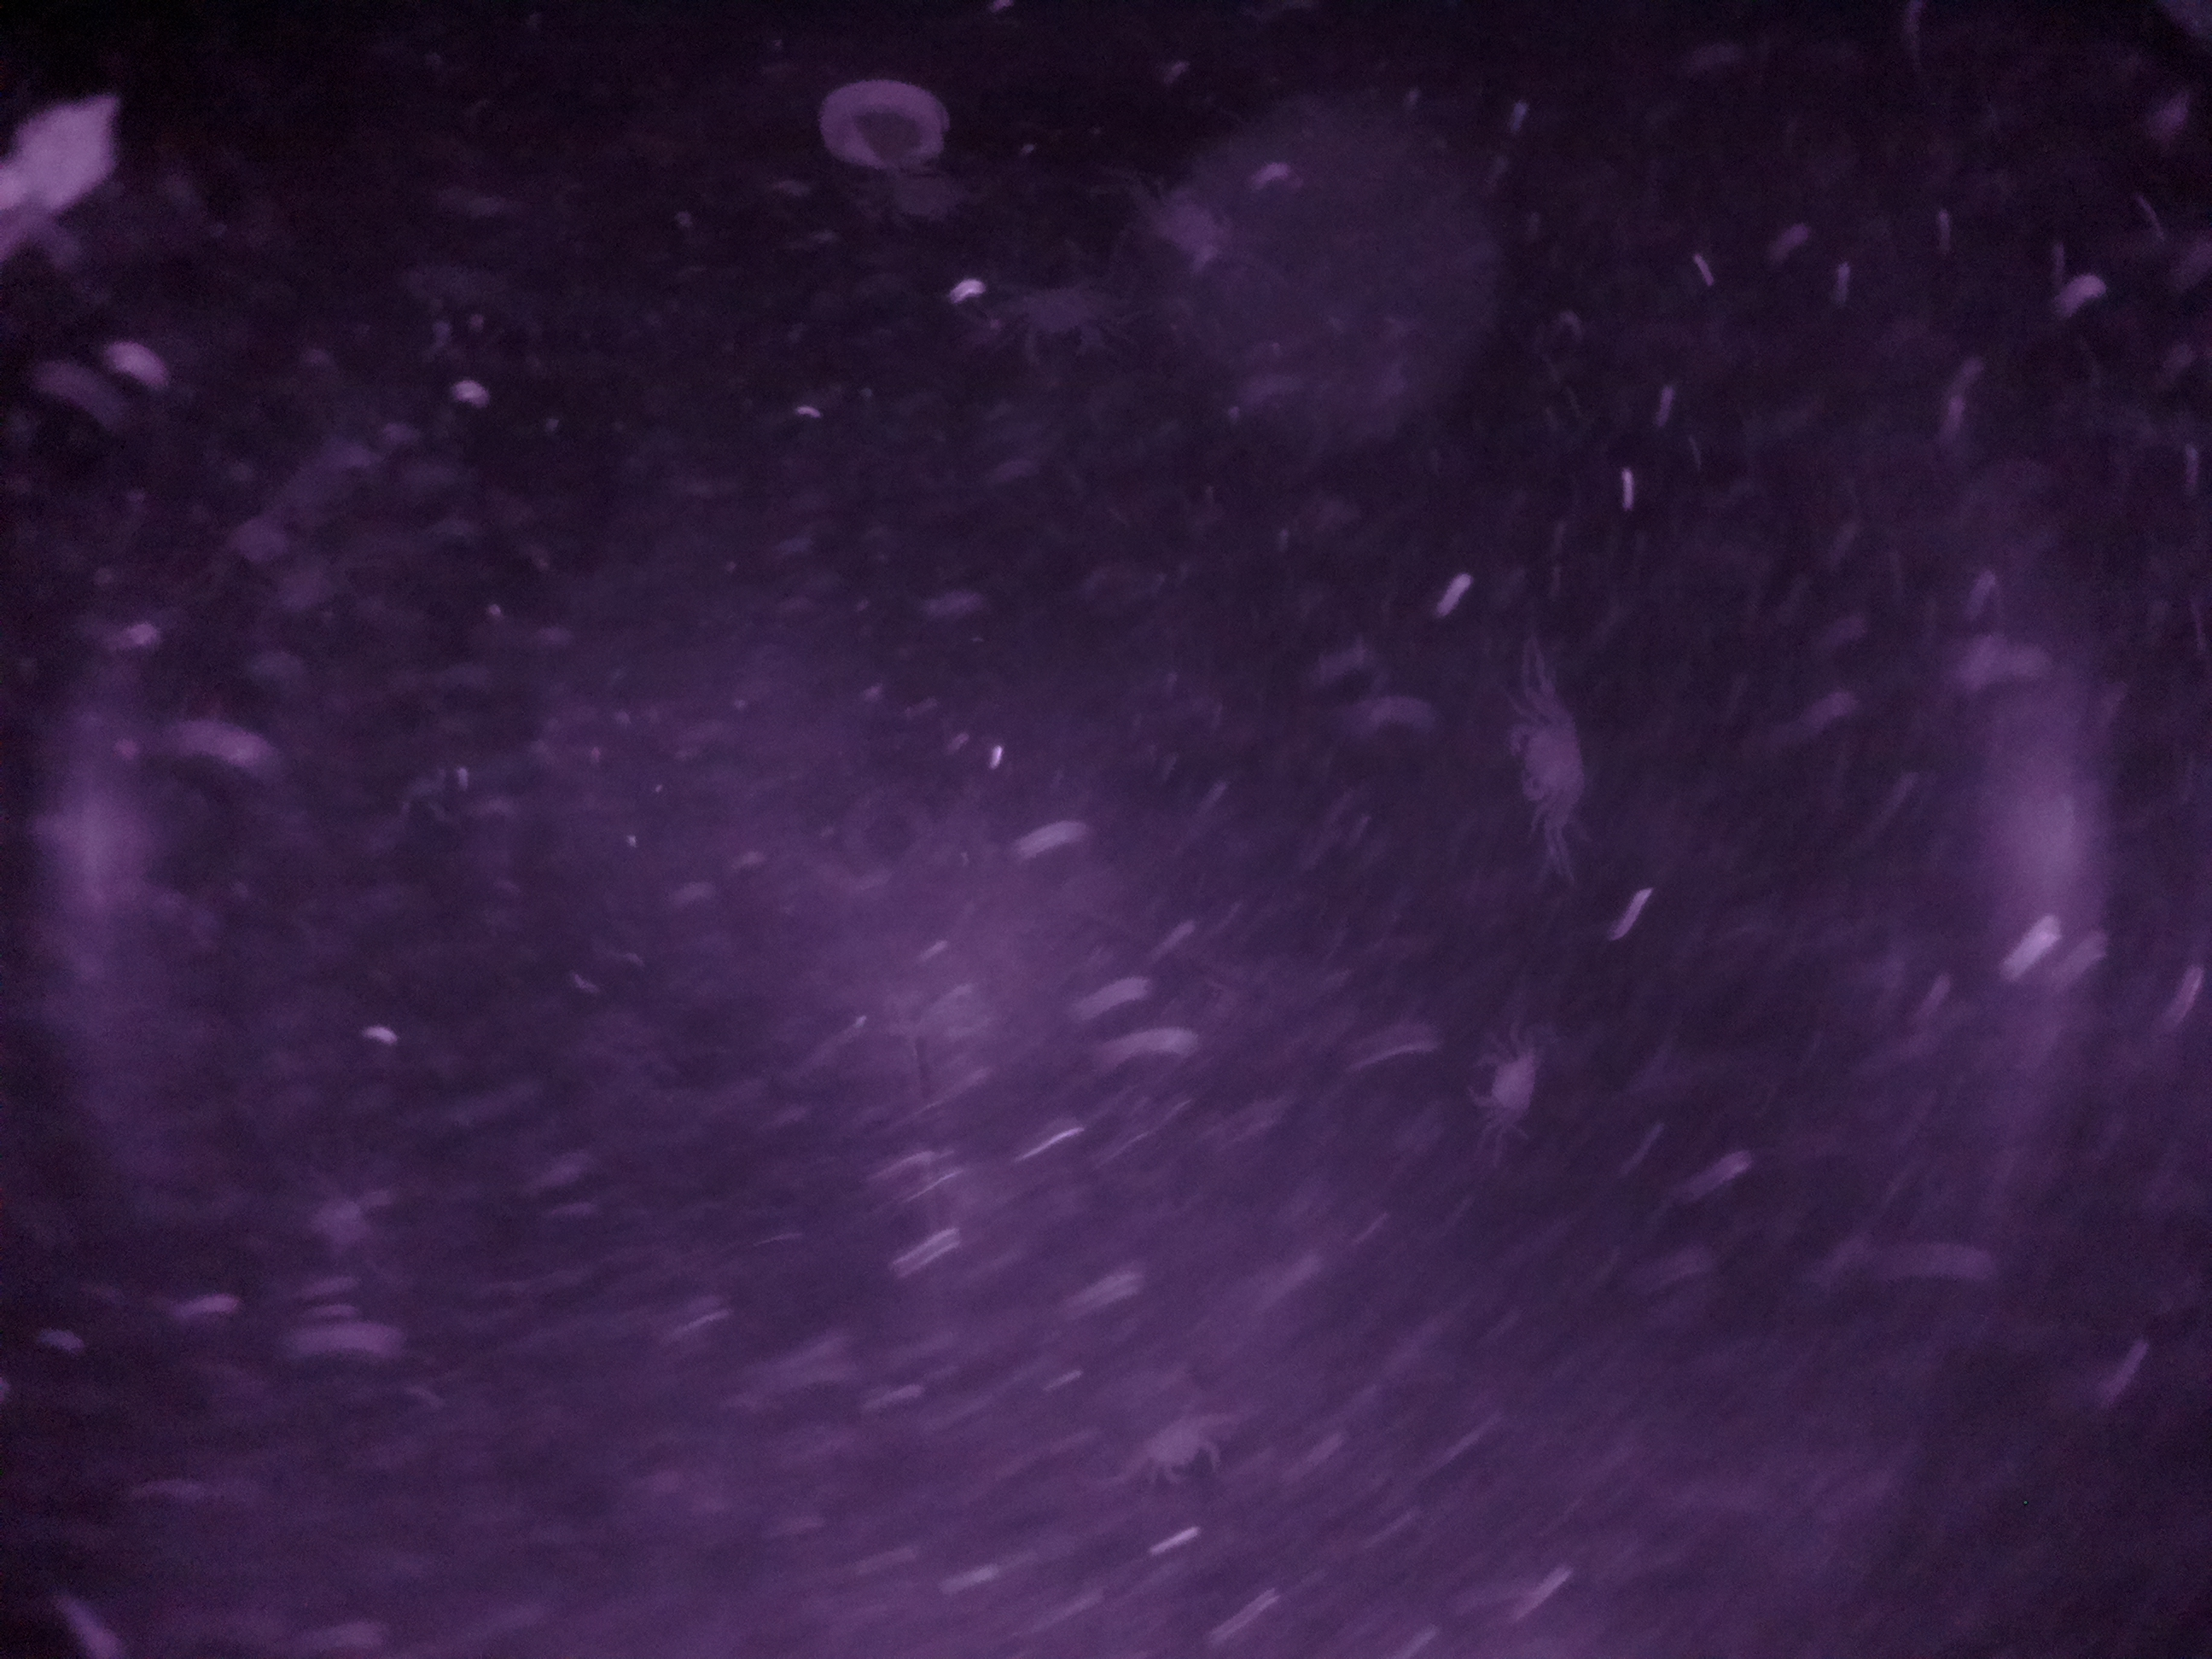Crab: (1498, 699, 1611, 829), (1139, 1385, 1223, 1520)
